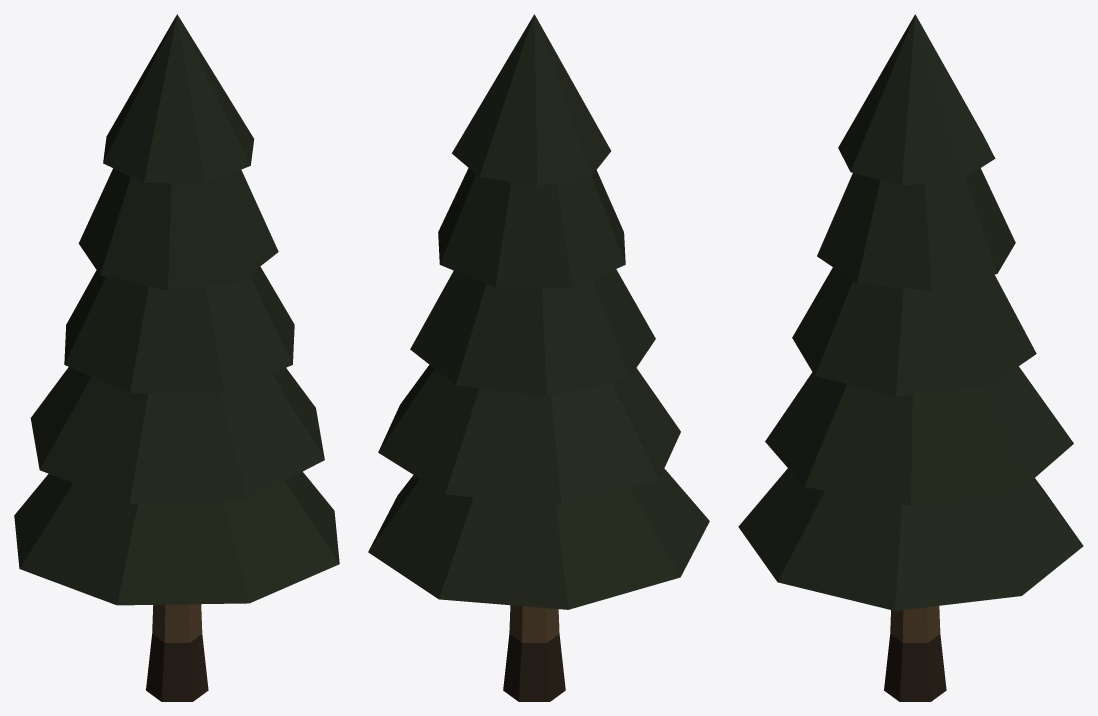
File: hushwood_pine.glb
3 views of the same model, side by side, from view 1: azimuth 30°, elevation 25°; view 2: azimuth 150°, elevation 25°; view 3: azimuth 270°, elevation 25° (orthographic).
Visible parts, largest first — view 1: hushwood_pine; view 2: hushwood_pine; view 3: hushwood_pine.
Part boxes in pixels (x1,y1,x2,y2): hushwood_pine: [14, 14, 339, 701]; hushwood_pine: [368, 14, 709, 701]; hushwood_pine: [738, 14, 1083, 701].
Size of the model in its own units: 3.03 by 6.55 by 3.03.
